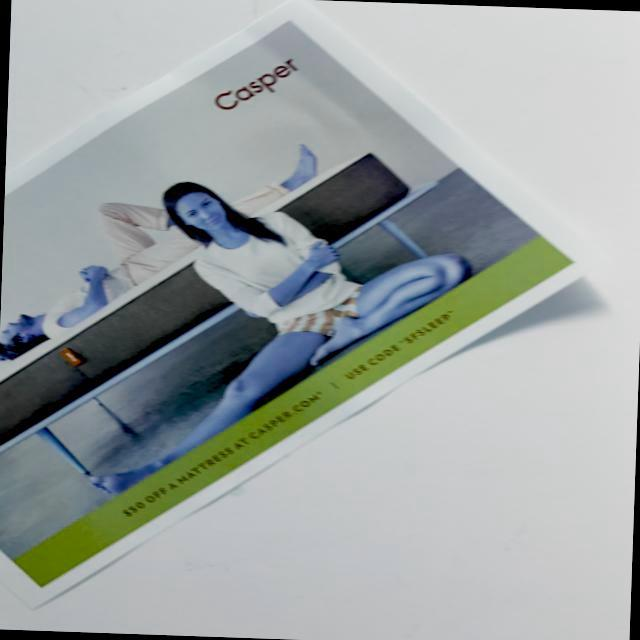paper: (0, 0, 599, 628)
